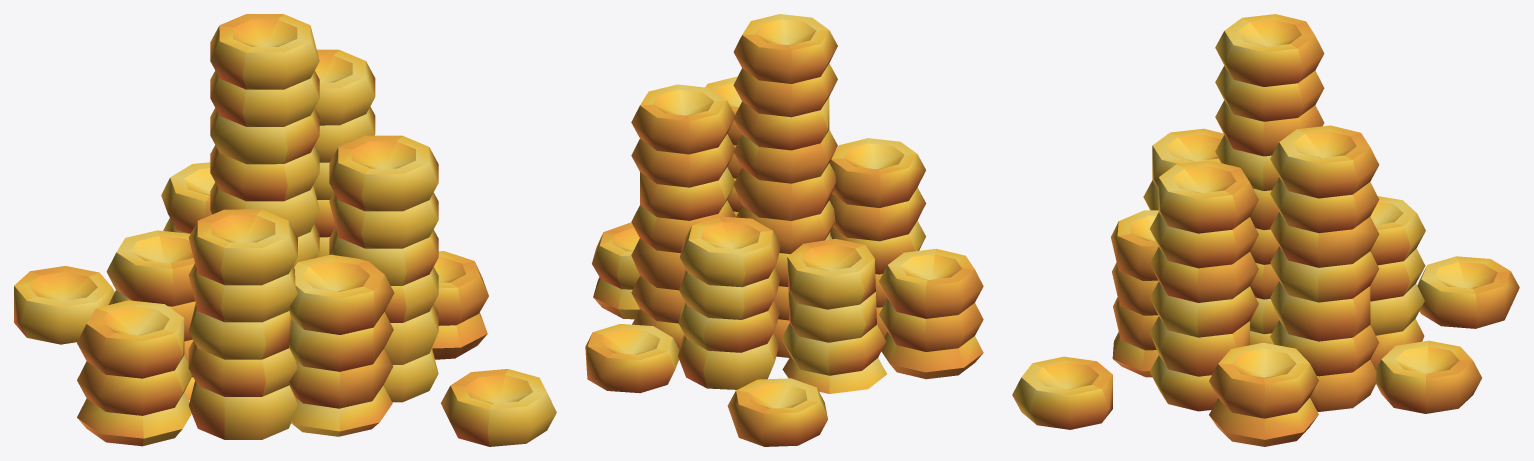
File: cc0-coin-stack-lod1.glb
3 views of the same model, side by side, from view 1: azimuth 30°, elevation 25°; view 2: azimuth 150°, elevation 25°; view 3: azimuth 270°, elevation 25° (orthographic). The views are drawn at different scales.
Parts seen in each view (by area): view 1: part_0; view 2: part_0; view 3: part_0.
Part boxes in pixels (bbox=[...]): part_0: bbox=[14, 14, 556, 446]; part_0: bbox=[585, 14, 983, 446]; part_0: bbox=[1012, 14, 1519, 446].
Size of the model in its own units: 1.44 by 1.16 by 1.66.
1 material, 1 textured.
